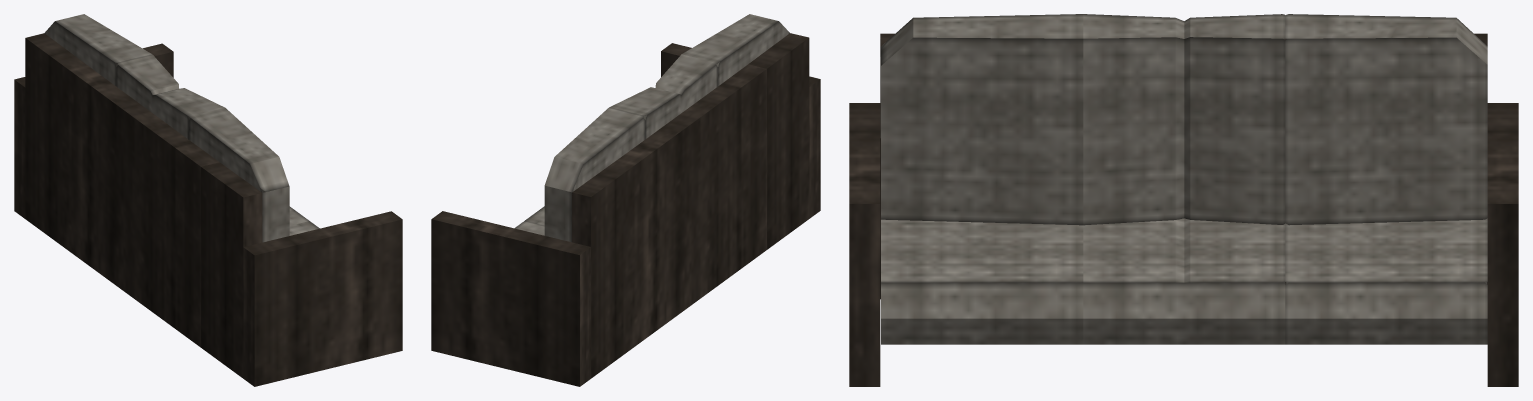
File: SM_EC_Sofa_1.fbx
3 renders of one model, left to right at view 1: azimuth 30°, elevation 25°; view 2: azimuth 150°, elevation 25°; view 3: azimuth 270°, elevation 25°, orthographic. The views are drawn at different scales.
Parts seen in each view (by area): view 1: SM_EC_Sofa_1; view 2: SM_EC_Sofa_1; view 3: SM_EC_Sofa_1.
Boxes of the visible parts, box(x1,y1,x2,y2) form: SM_EC_Sofa_1: box(14, 14, 402, 386); SM_EC_Sofa_1: box(431, 14, 820, 386); SM_EC_Sofa_1: box(849, 14, 1518, 386).
Bounding box in the file's own units: 1.07 × 2.99 × 1.4.
